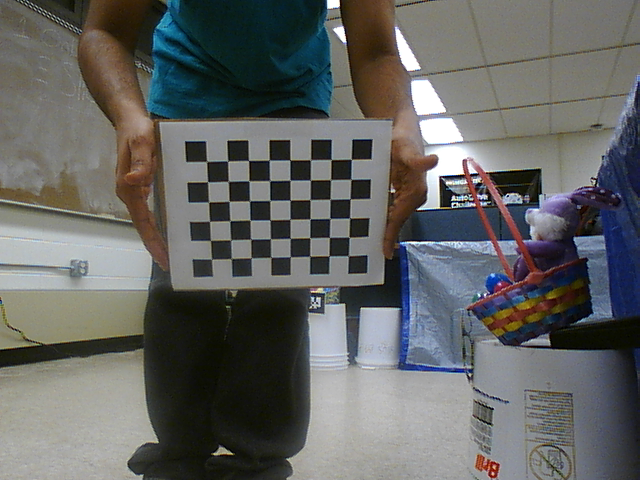bunny: (453, 152, 606, 345)
